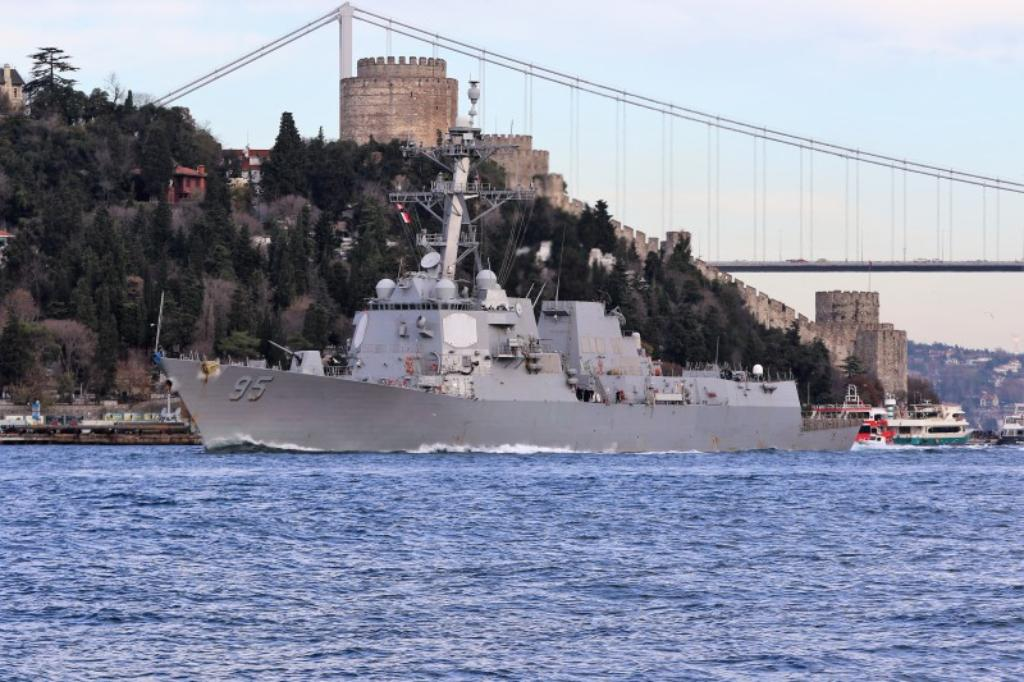Warship: (153, 72, 865, 454)
